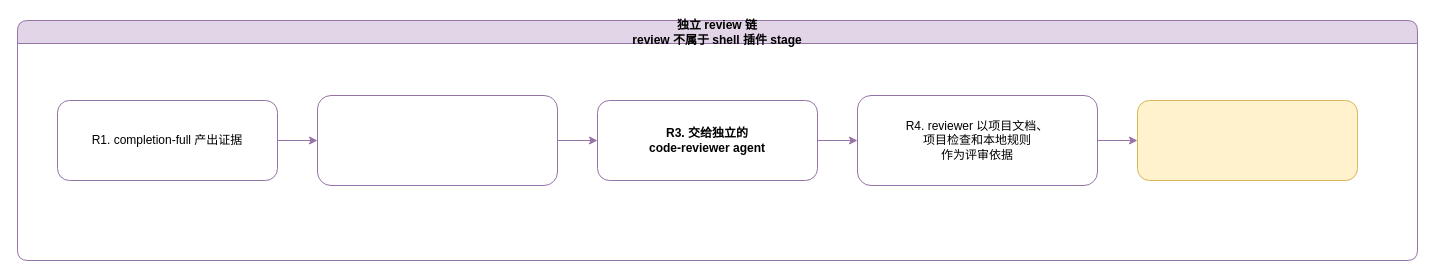
Image size: 1435x278. Some labels were removed from this diagram. The shapes that lost their labels are listed below. From the top down, each one's box as (x1, y1, x2, y2) in pixels, then its label:
(316, 94, 558, 186): R2. 整理成紧凑 review 包 plan + diff + validation + 架构输入 + 风险
(1136, 100, 1358, 180): R5. 只有 review 通过后 才进入 workflow-governance / archive / handoff
